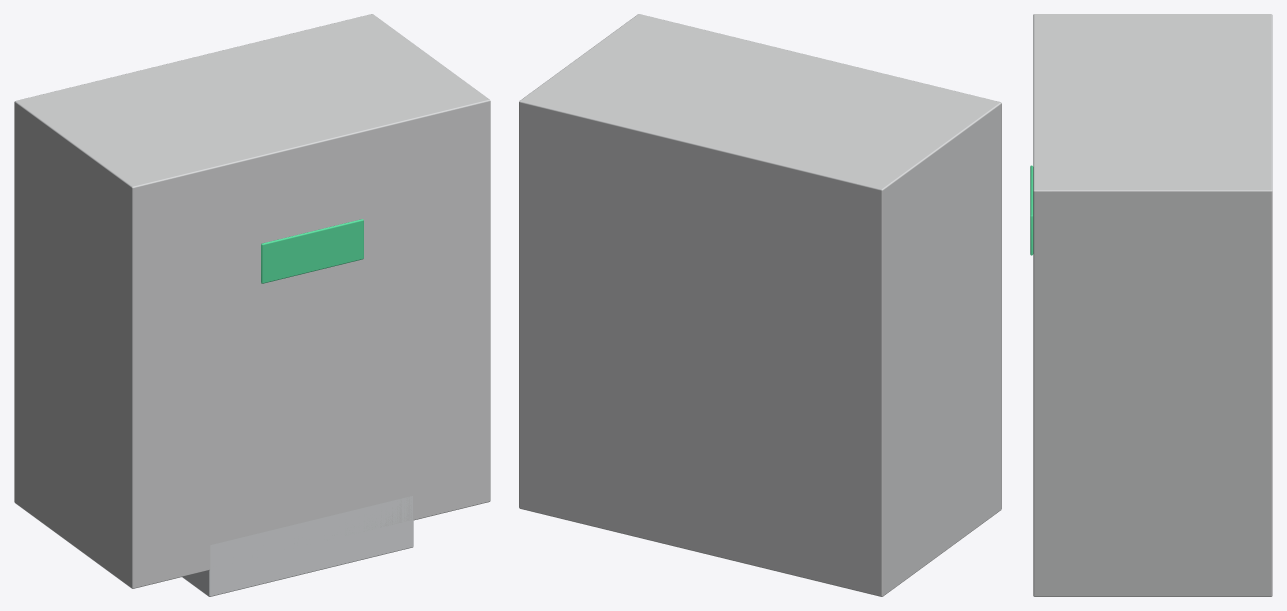
Rendered from SM_HandDryer.fbx.
3 views of the same model, side by side, from view 1: azimuth 30°, elevation 25°; view 2: azimuth 150°, elevation 25°; view 3: azimuth 270°, elevation 25° (orthographic).
Parts seen in each view (by area): view 1: SM_HandDryer; view 2: SM_HandDryer; view 3: SM_HandDryer.
Part boxes in pixels (x1,y1,x2,y2): SM_HandDryer: (14,14,490,596); SM_HandDryer: (519,14,1001,596); SM_HandDryer: (1030,14,1272,596).
Bounding box in the file's own units: 0.28 × 0.32 × 0.162.
